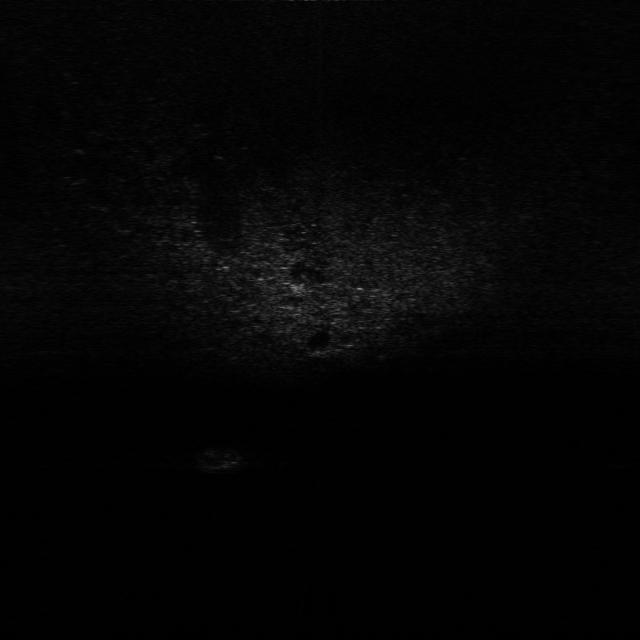circle cage: (193, 444, 248, 477)
